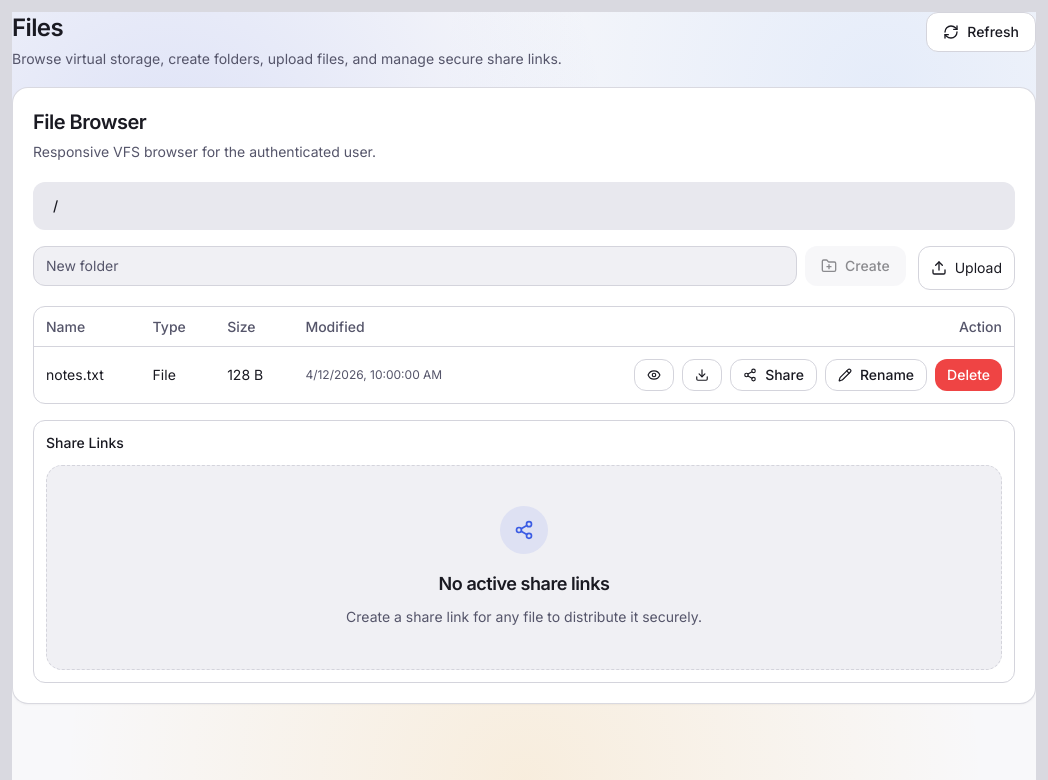
it: FilesPage › creates a folder and refreshes the directory listing
This screenshot has width=1048, height=780.
expect the cell "notes.txt" is shown: met, box [34,347,141,403]
Step 1. Type "reports" into the field with placeholder "New folder" → (415, 266), box [33,246,797,286]
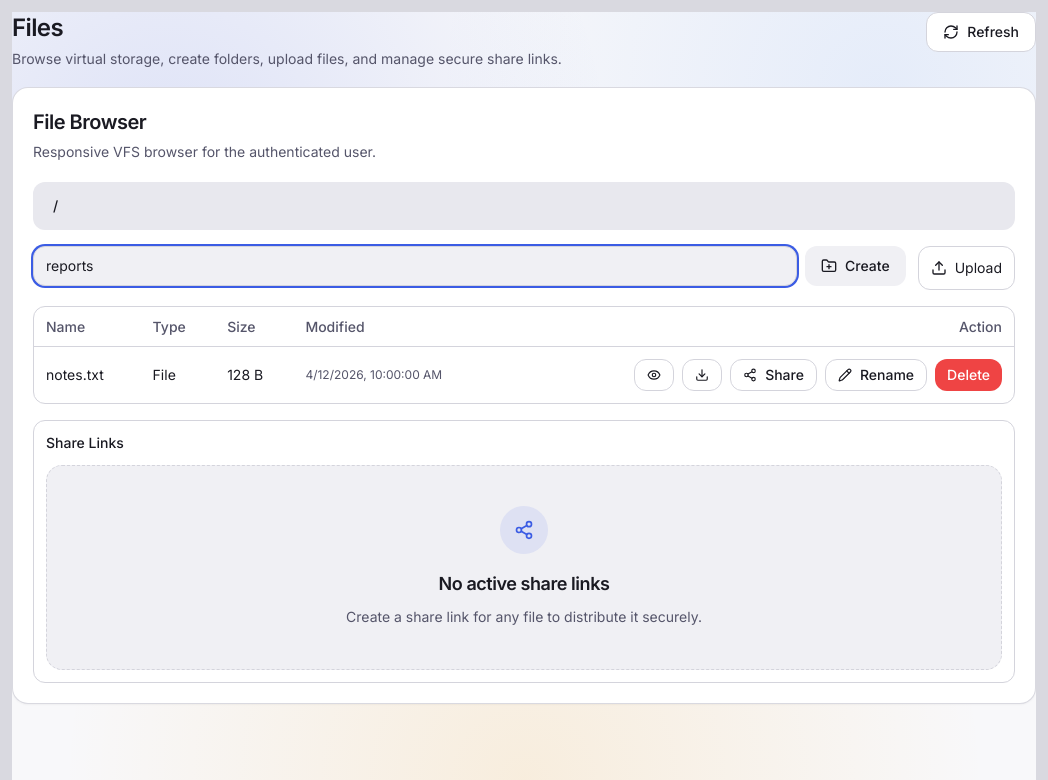
Step 2. Click the button "Create" → (855, 266), box [805,246,906,286]
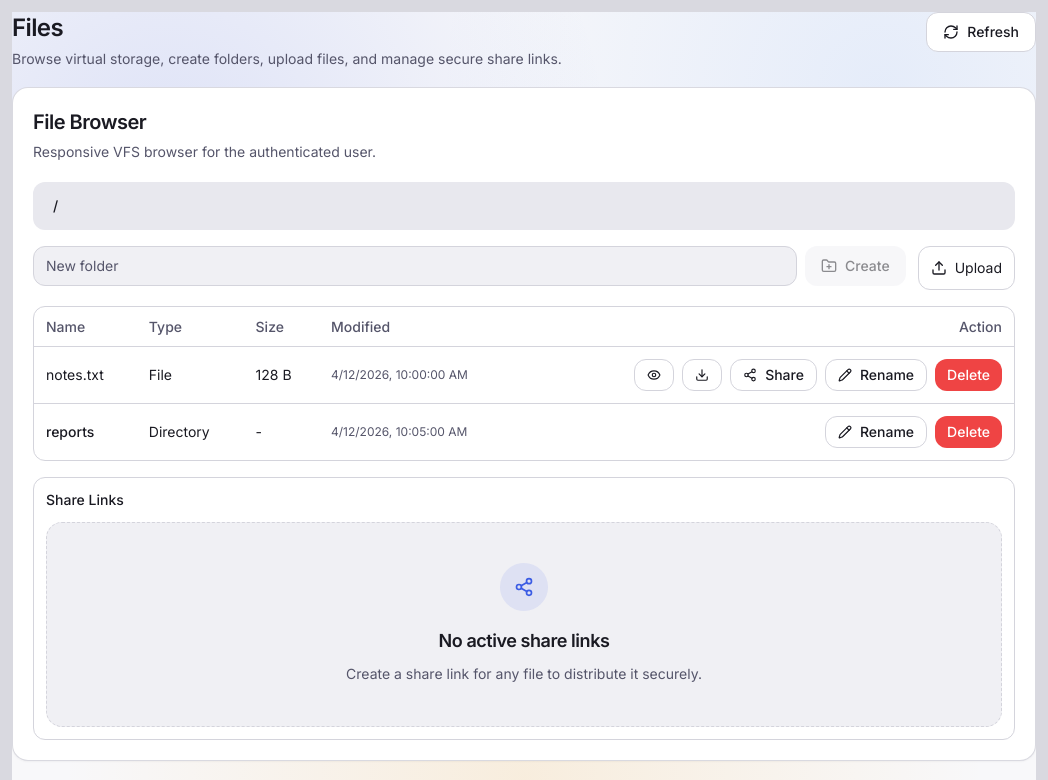
expect the button "reports" is shown: met, box [46,422,94,442]
